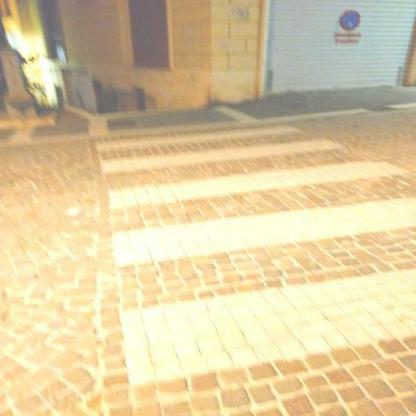crosswalk: (86, 135, 411, 214)
